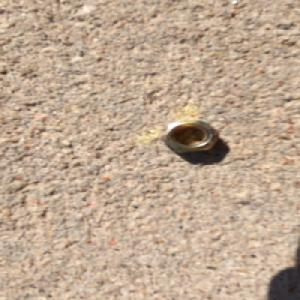Nut: (158, 119, 223, 155)
